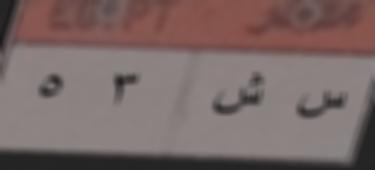3: (107, 64, 148, 118)
5: (33, 65, 68, 110)
seen: (293, 83, 351, 133)
sheen: (211, 67, 266, 126)
